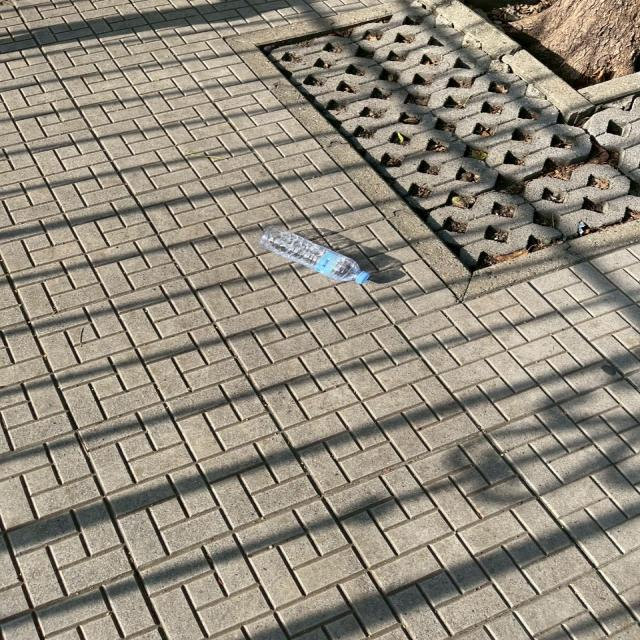plastic bottle: (246, 224, 376, 288)
